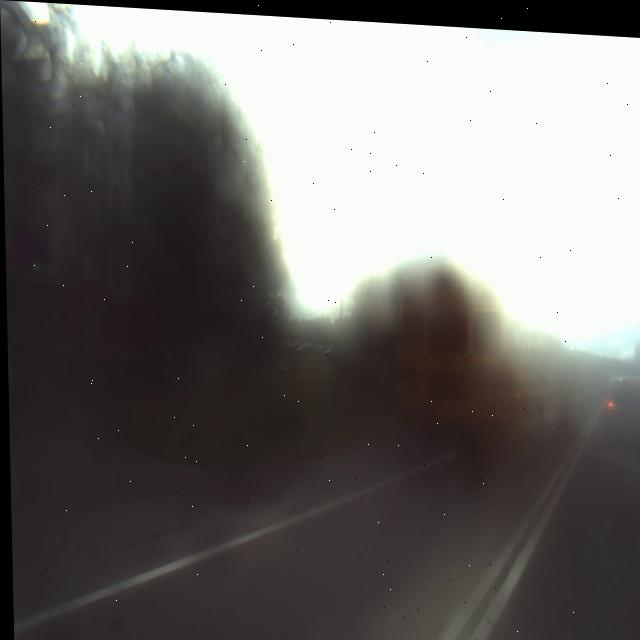car: (593, 353, 640, 461)
